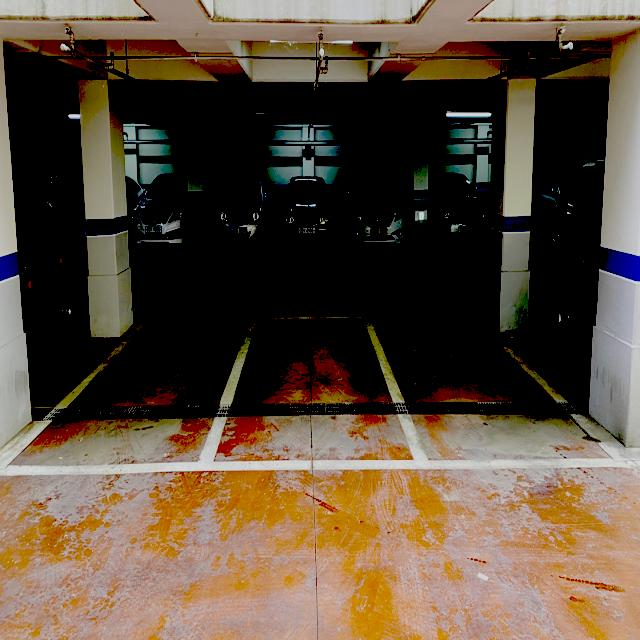empty: (368, 317, 626, 466), (12, 318, 254, 451), (220, 316, 389, 410)
occupied: (337, 177, 406, 256), (210, 174, 275, 256), (131, 174, 194, 255), (279, 179, 335, 258)
